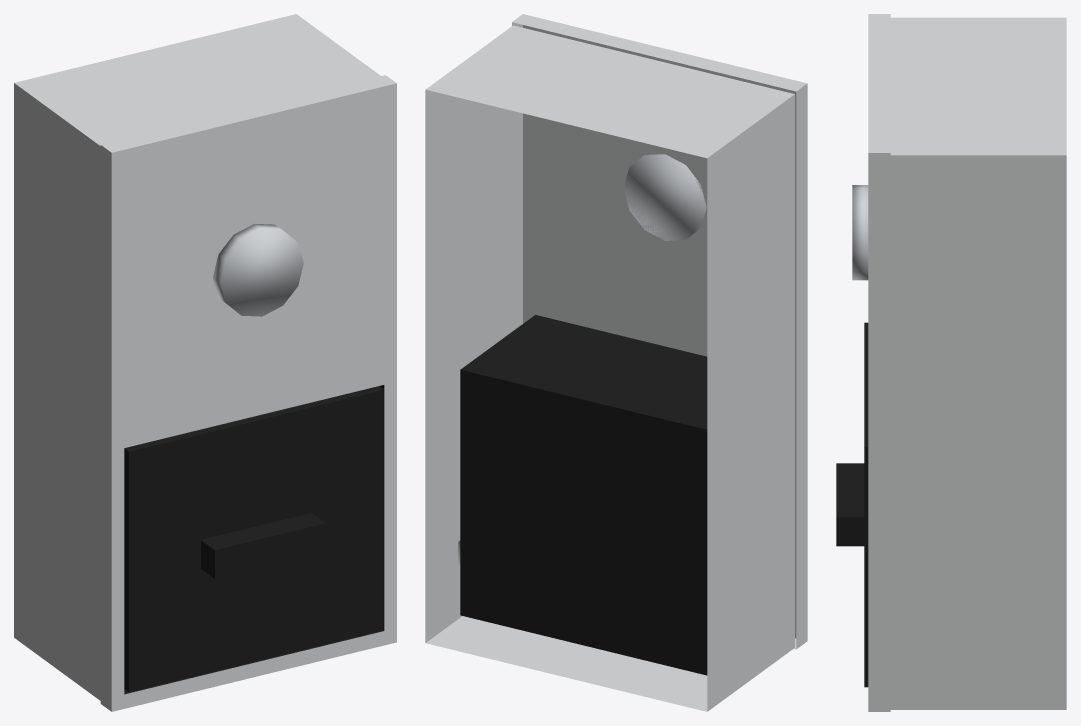
Rendered from C9200-STACK-KIT.far.glb.
3 views of the same model, side by side, from view 1: azimuth 30°, elevation 25°; view 2: azimuth 150°, elevation 25°; view 3: azimuth 270°, elevation 25° (orthographic).
Parts seen in each view (by area): view 1: C9200-STACK-KIT_Body_far, cover:port:StackPort{module}; view 2: C9200-STACK-KIT_Body_far; view 3: C9200-STACK-KIT_Body_far, cover:port:StackPort{module}.
Boxes of the visible parts, x1,y1,x2,y2 form: C9200-STACK-KIT_Body_far: (14, 14, 396, 711); cover:port:StackPort{module}: (124, 386, 383, 692); C9200-STACK-KIT_Body_far: (425, 14, 807, 711); C9200-STACK-KIT_Body_far: (852, 14, 1066, 711); cover:port:StackPort{module}: (836, 322, 868, 687).
Size of the model in its own units: 0.0206 by 0.0386 by 0.0144.
Materials: 1 (1 with a texture image).
